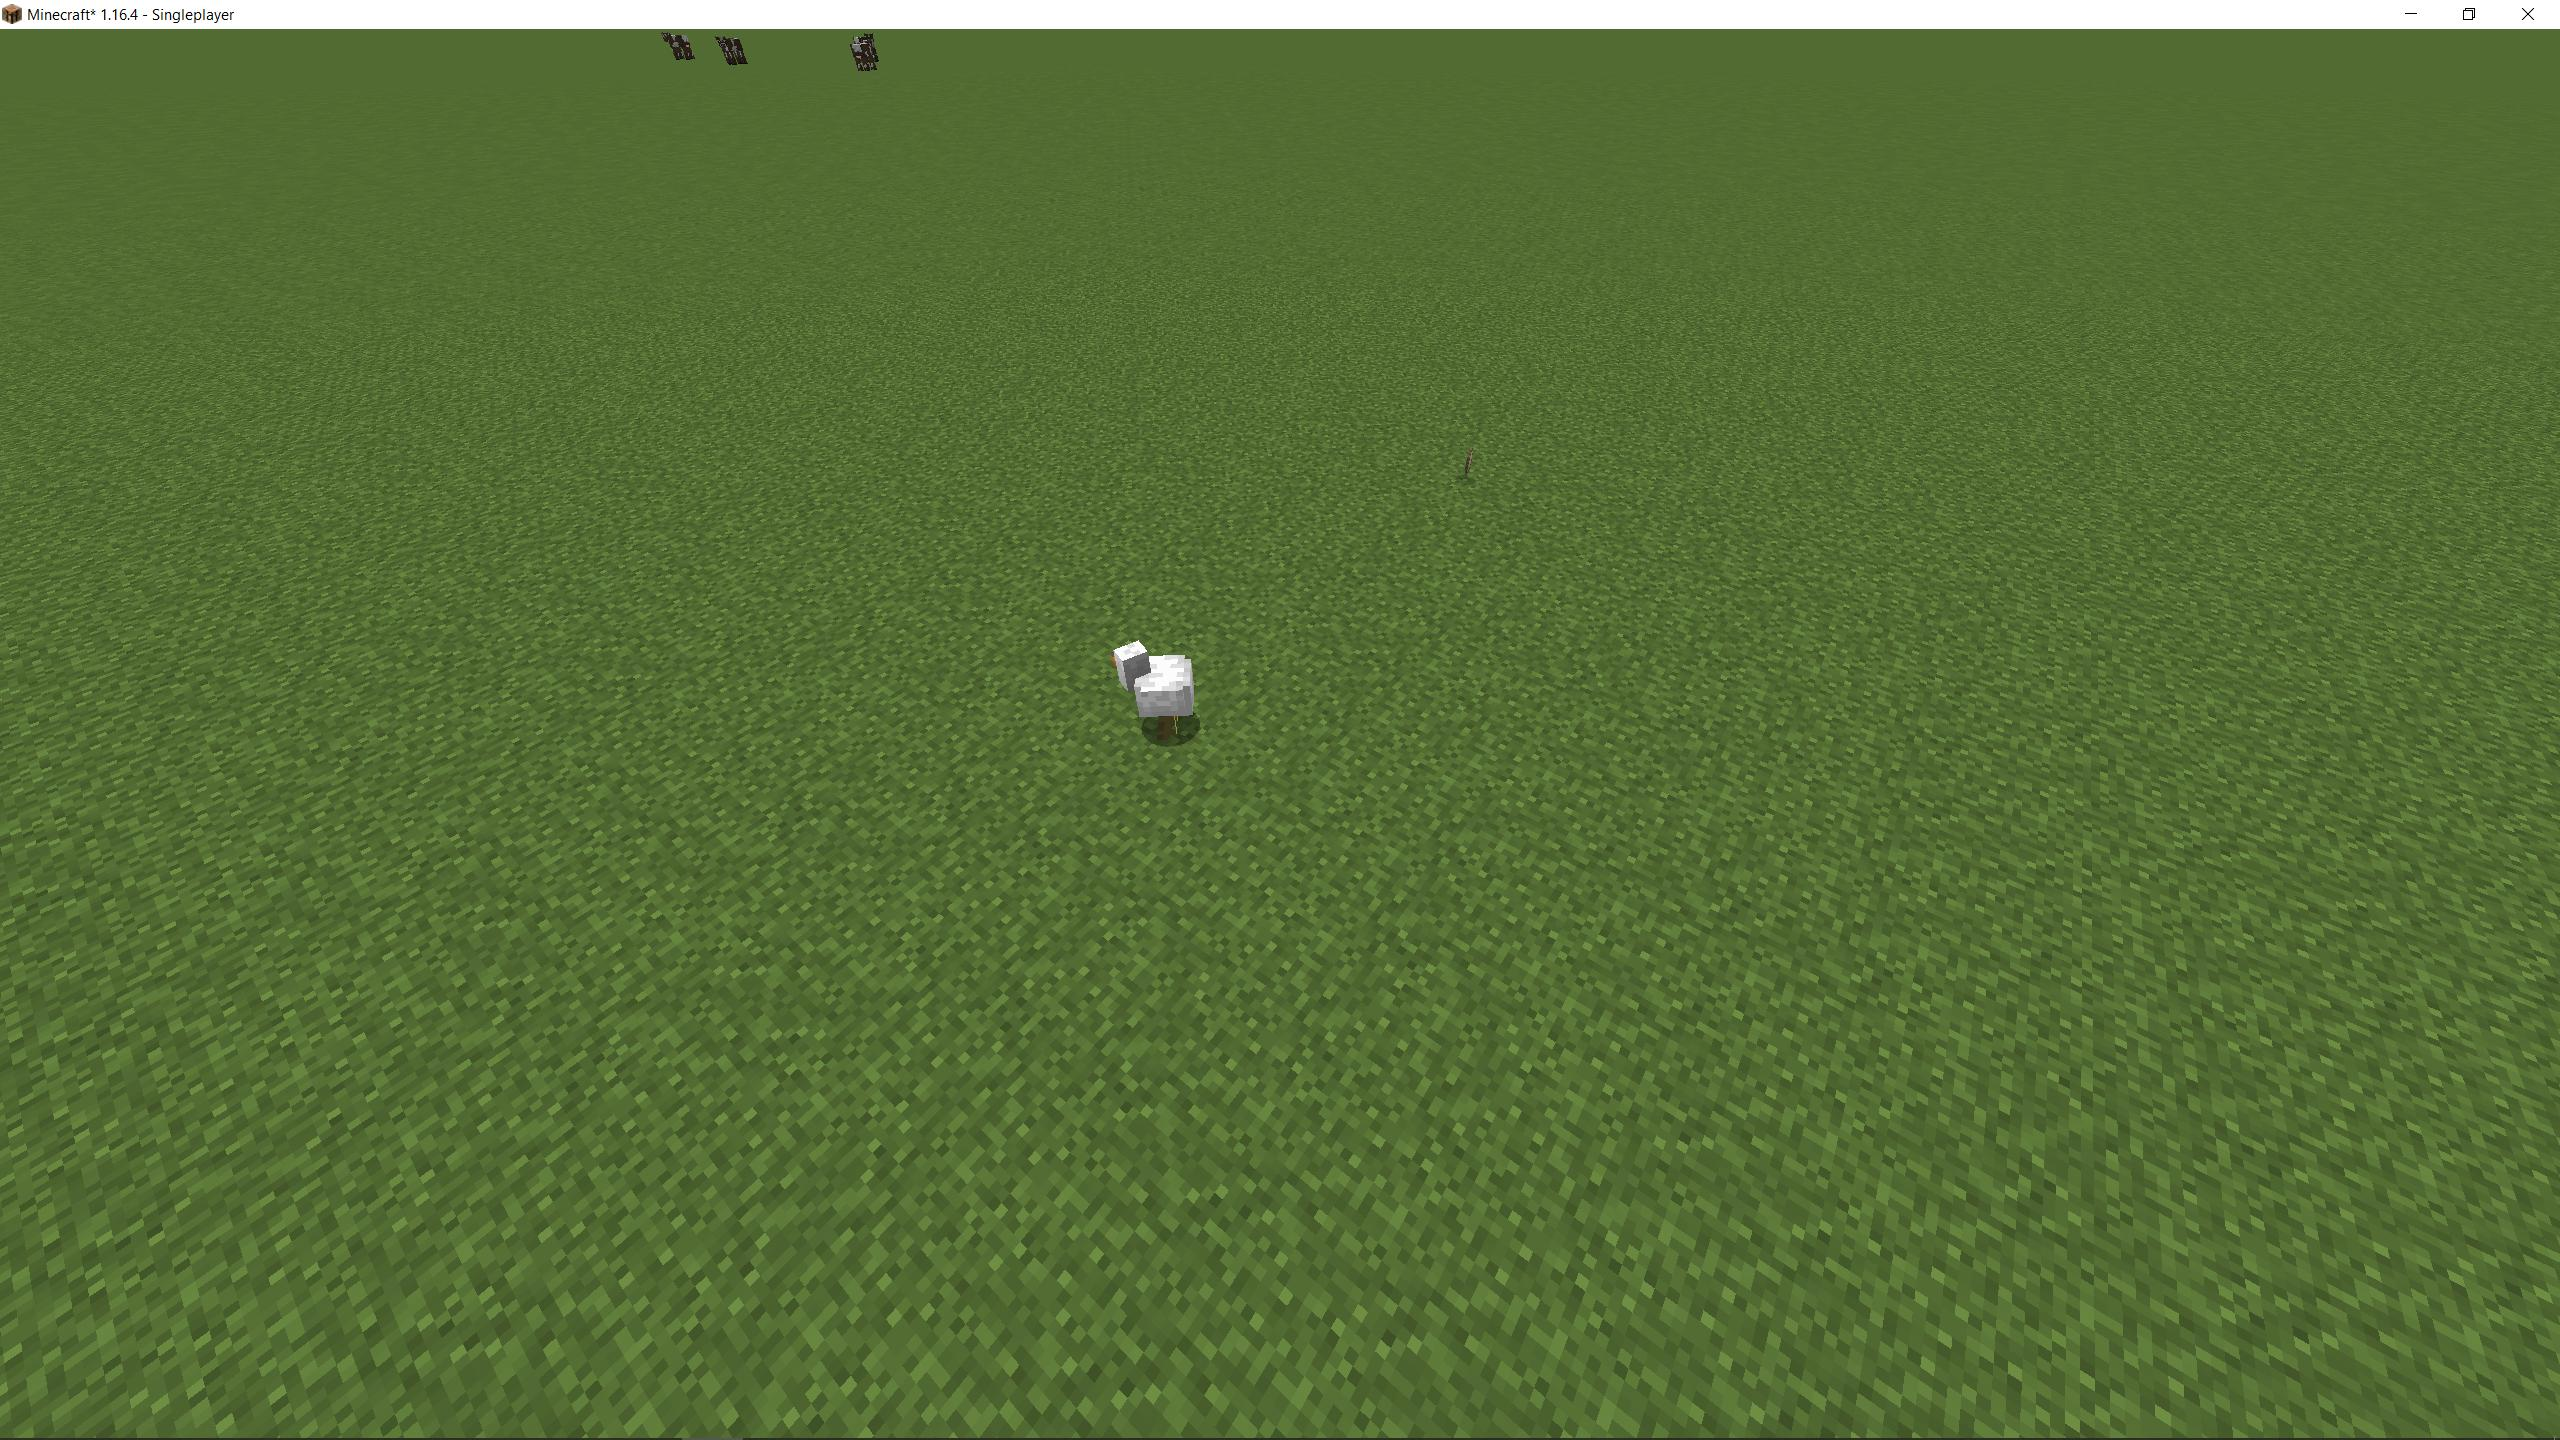chicken: (1104, 633, 1204, 738)
